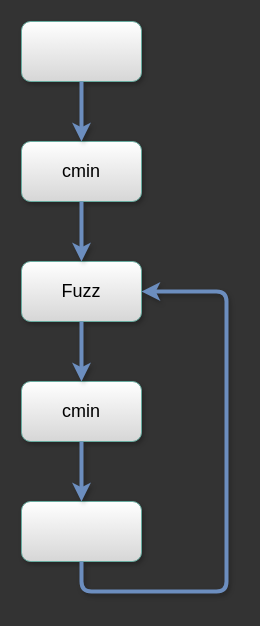
The diagram is 260 pixels wide and 626 high, and some of its shapes have lost their labels. The shapes that lost their labels are listed below. From the top down, each one's centre as x and y in pixels, then its label:
(x=82, y=52): Initial Input
(x=82, y=532): tmin
